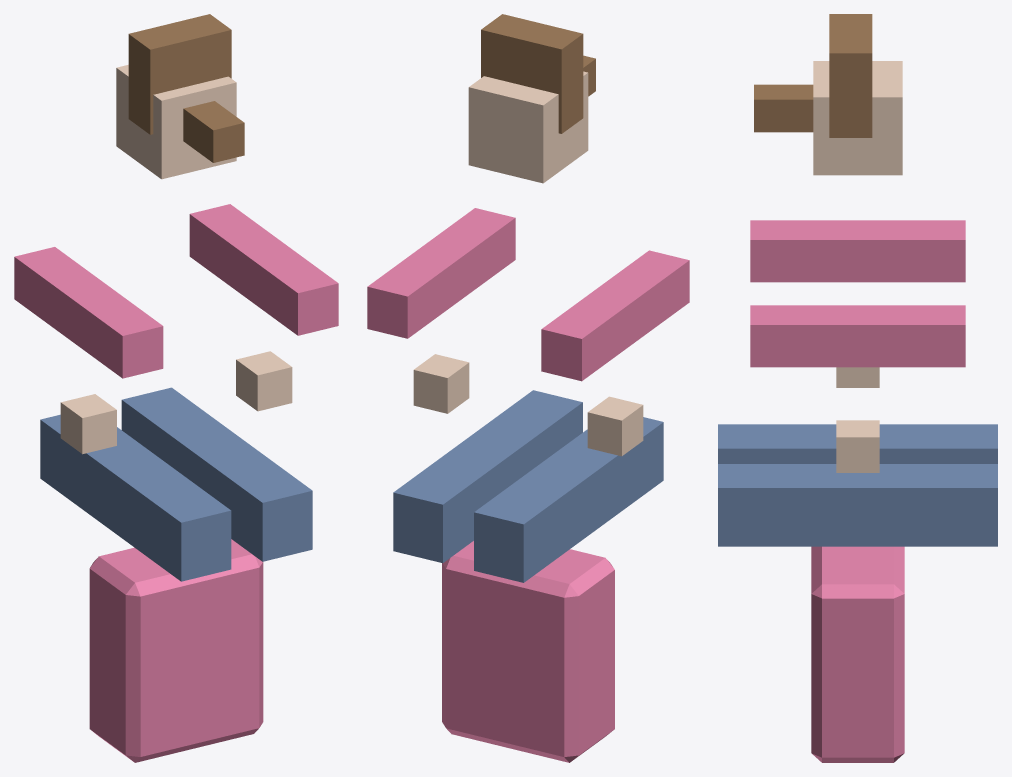
File: ped_female.glb
3 views of the same model, side by side, from view 1: azimuth 30°, elevation 25°; view 2: azimuth 150°, elevation 25°; view 3: azimuth 270°, elevation 25° (orthographic).
Parts seen in each view (by area): view 1: Torso, Head, LegL, LegR, ArmL, ArmR; view 2: Torso, Head, LegL, LegR, ArmL, ArmR; view 3: LegR, Torso, ArmR, Head, ArmL, LegL.
Part boxes in pixels (left/top/right/bottom): Torso: left=89, top=539, right=263, bottom=762; Head: left=116, top=14, right=244, bottom=179; LegL: left=40, top=414, right=231, bottom=581; LegR: left=121, top=387, right=312, bottom=561; ArmL: left=14, top=247, right=163, bottom=454; ArmR: left=189, top=204, right=338, bottom=411; Torso: left=442, top=541, right=614, bottom=762; Head: left=468, top=14, right=595, bottom=183; LegL: left=474, top=417, right=663, bottom=582; LegR: left=393, top=390, right=582, bottom=563; ArmL: left=541, top=250, right=689, bottom=456; ArmR: left=367, top=208, right=515, bottom=413; LegR: left=718, top=464, right=997, bottom=546; Torso: left=811, top=546, right=904, bottom=762; ArmR: left=750, top=305, right=965, bottom=472; Head: left=754, top=14, right=902, bottom=175; ArmL: left=750, top=220, right=965, bottom=387; LegL: left=718, top=424, right=997, bottom=463.
Bounding box in the file's own units: 0.69 × 2.16 × 0.78.
